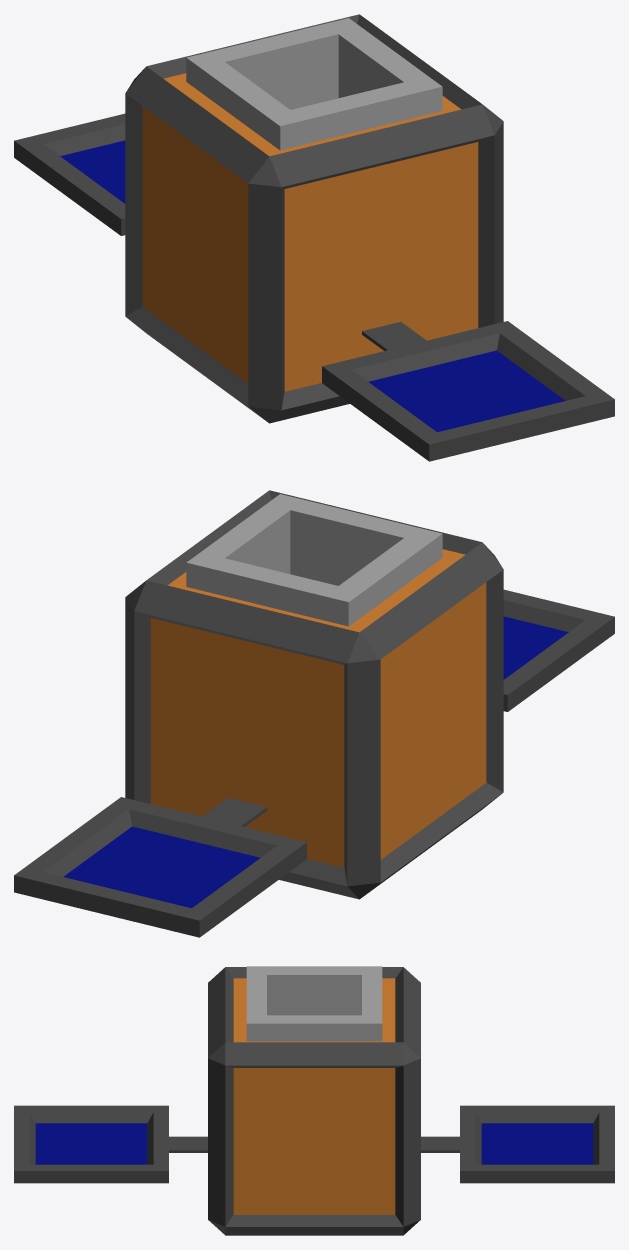
The model's file is Satellite_Petit.fbx.
The picture shows the model from 3 angles, top to bottom: view 1: azimuth 30°, elevation 25°; view 2: azimuth 150°, elevation 25°; view 3: azimuth 270°, elevation 25°; orthographic projection. The views are drawn at different scales.
Parts seen in each view (by area): view 1: Cube; view 2: Cube; view 3: Cube.
Boxes of the visible parts, x1,y1,x2,y2 form: Cube: (14, 14, 614, 461); Cube: (14, 490, 614, 937); Cube: (14, 966, 614, 1235).
Bounding box in the file's own units: 220 × 231 × 620.
